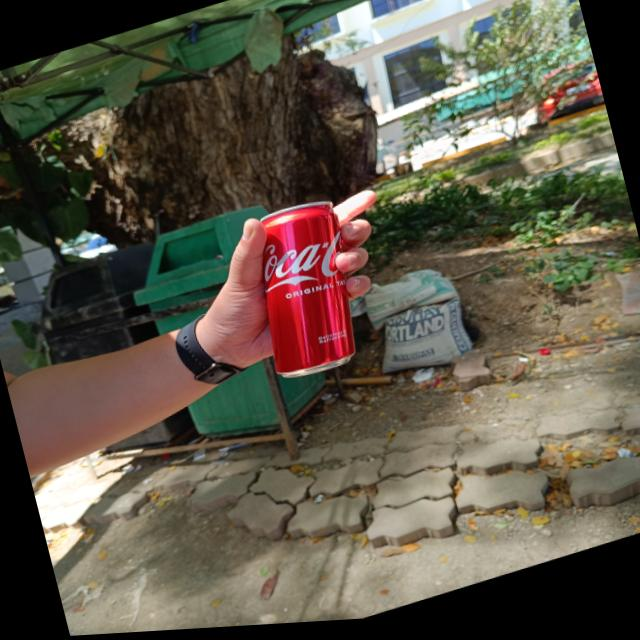coke: (239, 198, 371, 389)
